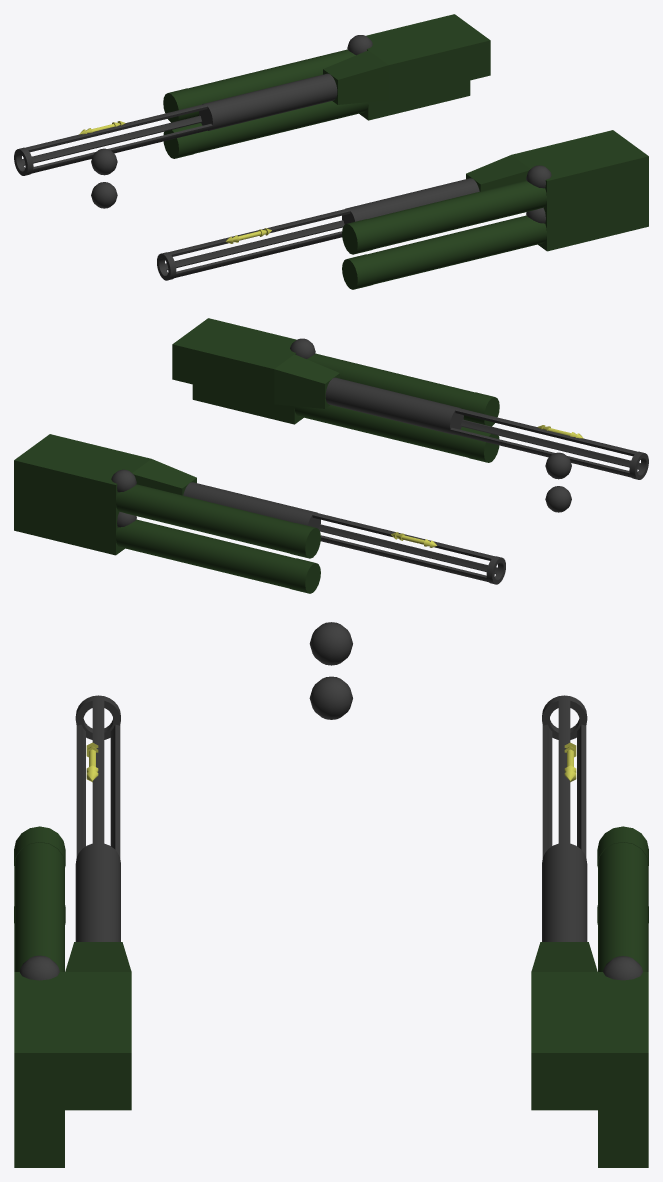
File: tunguskaCannon.obj
The picture shows the model from 3 angles, top to bottom: view 1: azimuth 30°, elevation 25°; view 2: azimuth 150°, elevation 25°; view 3: azimuth 270°, elevation 25°; orthographic projection. The views are drawn at different scales.
Visible parts, largest first — view 1: Mesh20 box3 Group12 Model, Mesh12 box2 Group8 Model, Mesh13 Group9 Group8 Model, Mesh19 cylinder3 Group12 Model, Mesh18 cylinder2 Group12 Model, Mesh7 Group5 Group4 Model, Mesh2 cylinder1 Group1 Model, Mesh1 cylinder Group1 Model, Mesh6 box1 Group4 Model, Mesh3 box Group1 Model, Mesh17 sphere3 Group11 fixed4 fixed73840 Group8 Model, Mesh11 sphere2 Group7 fixed3 fixed73855 Group4 Model (+1 smaller); view 2: Mesh3 box Group1 Model, Mesh6 box1 Group4 Model, Mesh7 Group5 Group4 Model, Mesh2 cylinder1 Group1 Model, Mesh1 cylinder Group1 Model, Mesh13 Group9 Group8 Model, Mesh19 cylinder3 Group12 Model, Mesh18 cylinder2 Group12 Model, Mesh12 box2 Group8 Model, Mesh20 box3 Group12 Model, Mesh11 sphere2 Group7 fixed3 fixed73855 Group4 Model, Mesh17 sphere3 Group11 fixed4 fixed73840 Group8 Model (+1 smaller); view 3: Mesh6 box1 Group4 Model, Mesh12 box2 Group8 Model, Mesh3 box Group1 Model, Mesh20 box3 Group12 Model, Mesh7 Group5 Group4 Model, Mesh13 Group9 Group8 Model, Mesh1 cylinder Group1 Model, Mesh18 cylinder2 Group12 Model, Mesh11 sphere2 Group7 fixed3 fixed73855 Group4 Model, Mesh17 sphere3 Group11 fixed4 fixed73840 Group8 Model, Mesh21 sphere4 Group13 fixed5 fixed71200 Group12 Model.
Boxes of the visible parts, x1,y1,x2,y2 form: Mesh20 box3 Group12 Model: (538,145,648,251); Mesh12 box2 Group8 Model: (323,25,490,104); Mesh13 Group9 Group8 Model: (14,73,337,175); Mesh19 cylinder3 Group12 Model: (342,215,546,289); Mesh18 cylinder2 Group12 Model: (342,180,546,254); Mesh7 Group5 Group4 Model: (157,178,479,280); Mesh2 cylinder1 Group1 Model: (163,101,368,158); Mesh1 cylinder Group1 Model: (163,49,355,122); Mesh6 box1 Group4 Model: (466,130,632,191); Mesh3 box Group1 Model: (359,14,470,120); Mesh17 sphere3 Group11 fixed4 fixed73840 Group8 Model: (91,182,117,208); Mesh11 sphere2 Group7 fixed3 fixed73855 Group4 Model: (91,148,117,175); Mesh3 box Group1 Model: (14,449,124,555); Mesh6 box1 Group4 Model: (172,329,339,408); Mesh7 Group5 Group4 Model: (325,377,648,479); Mesh2 cylinder1 Group1 Model: (116,519,320,593); Mesh1 cylinder Group1 Model: (116,484,320,558); Mesh13 Group9 Group8 Model: (183,482,505,584); Mesh19 cylinder3 Group12 Model: (294,405,499,462); Mesh18 cylinder2 Group12 Model: (307,353,499,426); Mesh12 box2 Group8 Model: (30,434,196,495); Mesh20 box3 Group12 Model: (192,318,303,424); Mesh11 sphere2 Group7 fixed3 fixed73855 Group4 Model: (545,452,571,479); Mesh17 sphere3 Group11 fixed4 fixed73840 Group8 Model: (545,486,571,512); Mesh6 box1 Group4 Model: (65,942,131,1110); Mesh12 box2 Group8 Model: (531,942,597,1110); Mesh3 box Group1 Model: (598,972,648,1167); Mesh20 box3 Group12 Model: (14,972,64,1167); Mesh7 Group5 Group4 Model: (75,695,120,941); Mesh13 Group9 Group8 Model: (542,695,587,941); Mesh1 cylinder Group1 Model: (597,826,648,971); Mesh18 cylinder2 Group12 Model: (14,826,65,971); Mesh11 sphere2 Group7 fixed3 fixed73855 Group4 Model: (309,622,352,665); Mesh17 sphere3 Group11 fixed4 fixed73840 Group8 Model: (309,676,352,719); Mesh21 sphere4 Group13 fixed5 fixed71200 Group12 Model: (19,955,59,980).
Size of the model in its own units: 2815 by 672 by 2065.
